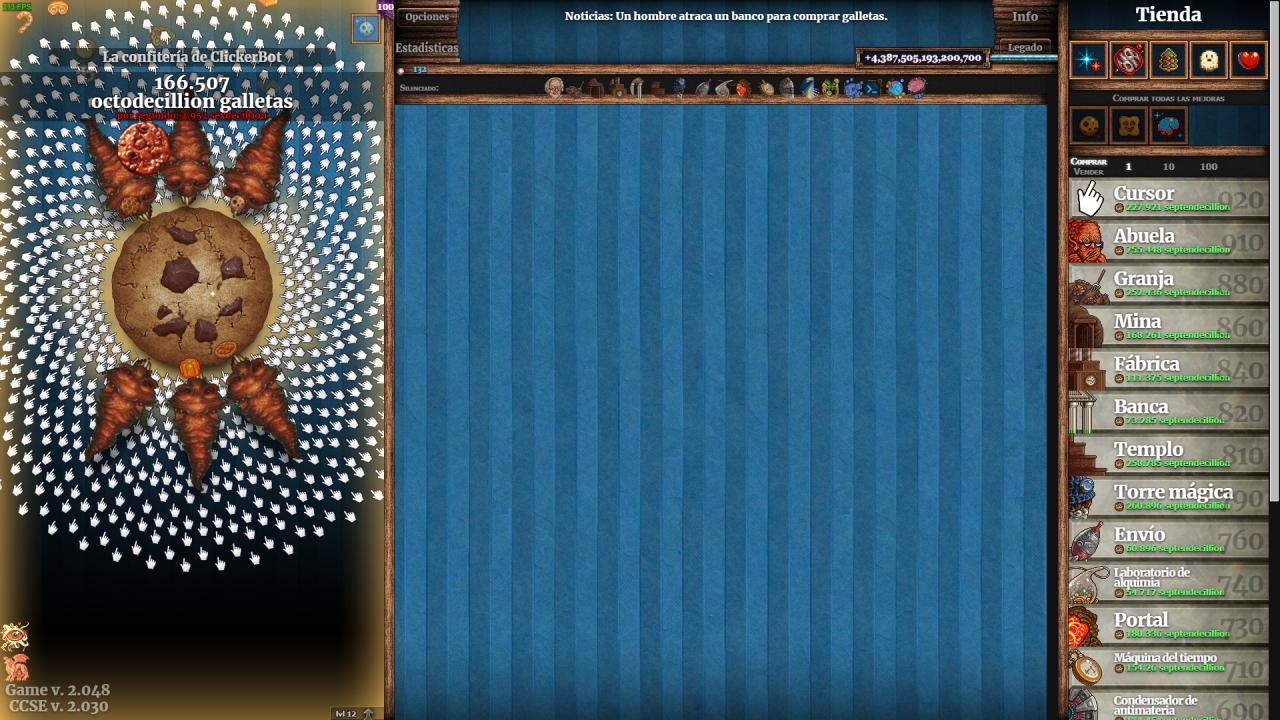RedCookie: (115, 120, 171, 177)
